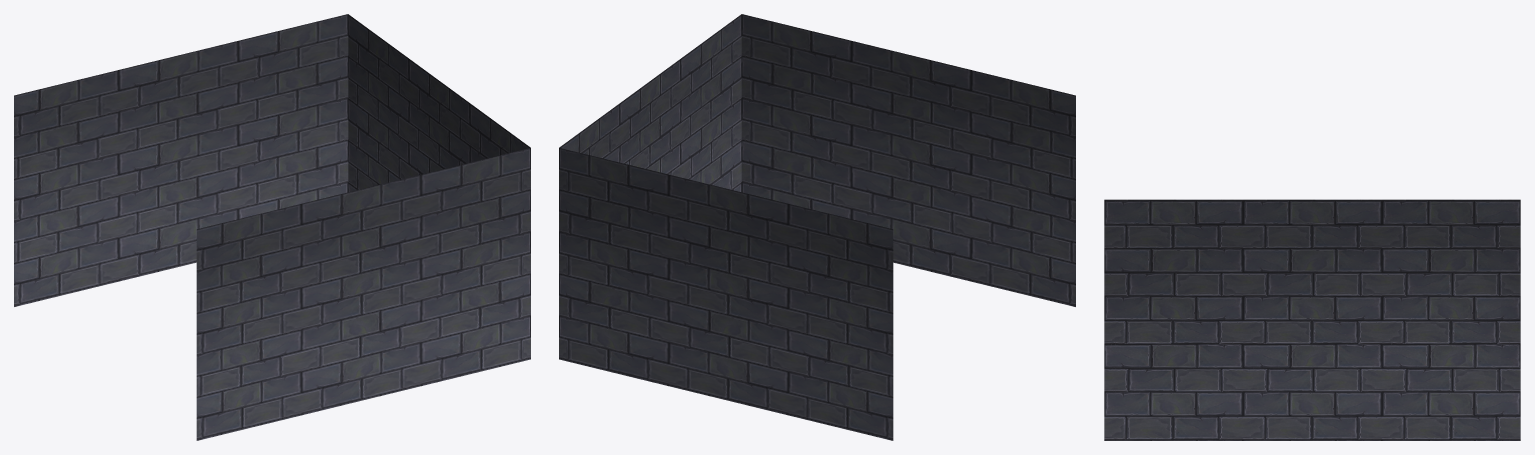
File: dungeon_wall_deadend.FBX
The picture shows the model from 3 angles, left to right: view 1: azimuth 30°, elevation 25°; view 2: azimuth 150°, elevation 25°; view 3: azimuth 270°, elevation 25°; orthographic projection. The views are drawn at different scales.
Visible parts, largest first — view 1: wall_deadend; view 2: wall_deadend; view 3: wall_deadend.
Boxes of the visible parts, x1,y1,x2,y2 form: wall_deadend: (14,14,530,440); wall_deadend: (559,14,1075,440); wall_deadend: (1104,199,1520,440).
Bounding box in the file's own units: 950 × 575 × 900.
1 material, 1 textured.
